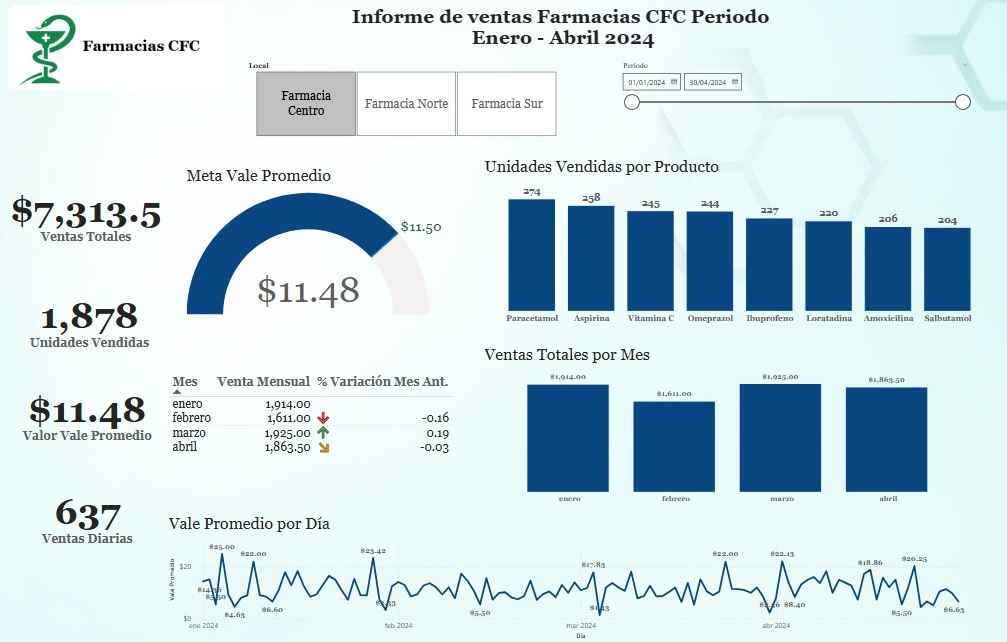

Layout of this report page (visuals, bound fields, positions):
{"tool":"powerbi","page":{"name":"Página 1","canvas":[1700,1100],"ordinal":0},"visuals":[{"type":"card","fields":{"Values":["ventas.Total_Ventas"]},"box":[0,284.6,324.9,163.4],"z":0},{"type":"card","fields":{"Values":["ventas.Unidades_Totales"]},"box":[18.4,454.1,299.9,177.5],"z":1000},{"type":"clusteredColumnChart","title":"Unidades Vendidas por Producto","fields":{"Category":["ventas.Producto"],"Y":["Sum(ventas.Cantidad)"]},"box":[820.1,273.4,858.9,283.6],"z":2000},{"type":"slicer","fields":{"Values":["ventas.Local"]},"box":[420.3,108.1,548.8,136.7],"z":3000},{"type":"slicer","fields":{"Values":["ventas.Fecha_Venta"]},"box":[1042.5,108.1,599.8,136.7],"z":4000},{"type":"clusteredColumnChart","fields":{"Y":["ventas.Total_Ventas"],"Category":["Calendario.Date.Variación.Jerarquía de fechas.Mes"]},"box":[820.1,585.5,822.2,271.3],"z":5000},{"type":"lineChart","fields":{"Y":["ventas.Vale_Promedio"],"Category":["Calendario.Date"]},"box":[295.8,867.1,1346.5,212.2],"z":6000},{"type":"card","fields":{"Values":["ventas.Vale_Promedio"]},"box":[40.8,618.2,248.9,159.1],"z":7000},{"type":"card","fields":{"Values":["ventas.Ventas_por_dia"]},"box":[40.8,787.5,248.9,161.2],"z":8000},{"type":"tableEx","fields":{"Values":["Calendario.Date.Variación.Jerarquía de fechas.Mes","Sum(ventas.Total_Venta)","ventas.% Variación Ventas Mes Anterior"]},"box":[295.8,630.4,524.3,226.5],"z":9000},{"type":"gauge","title":"Meta Vale Promedio","fields":{"Y":["ventas.Vale_Promedio"],"MinValue":["Calendario.Vale_prom_minimo"],"MaxValue":["Calendario.Vale_prom_max"],"TargetValue":["Calendario.vale_destino_prom"]},"box":[324.4,287.7,440.7,259.1],"z":10000},{"type":"textbox","box":[544.7,14.3,822.2,93.8],"z":11000},{"type":"image","box":[18.4,14.3,391.7,151],"z":12000}]}

Visuals, with their boxes in screenshot pixels (x1, y1, x2, y2), scaled from the page's 1700x1100 canvas onto the 1007x642 screenshot:
card - ventas.Total_Ventas: x1=0, y1=166, x2=192, y2=261
card - ventas.Unidades_Totales: x1=11, y1=265, x2=189, y2=369
"Unidades Vendidas por Producto" clusteredColumnChart: x1=486, y1=160, x2=995, y2=325
slicer - ventas.Local: x1=249, y1=63, x2=574, y2=143
slicer - ventas.Fecha_Venta: x1=618, y1=63, x2=973, y2=143
clusteredColumnChart - ventas.Total_Ventas x Calendario.Date.Variación.Jerarquía de fechas.Mes: x1=486, y1=342, x2=973, y2=500
lineChart - ventas.Vale_Promedio x Calendario.Date: x1=175, y1=506, x2=973, y2=630
card - ventas.Vale_Promedio: x1=24, y1=361, x2=172, y2=454
card - ventas.Ventas_por_dia: x1=24, y1=460, x2=172, y2=554
tableEx - Calendario.Date.Variación.Jerarquía de fechas.Mes x Sum(ventas.Total_Venta): x1=175, y1=368, x2=486, y2=500
"Meta Vale Promedio" gauge: x1=192, y1=168, x2=453, y2=319
textbox: x1=323, y1=8, x2=810, y2=63
image: x1=11, y1=8, x2=243, y2=96
